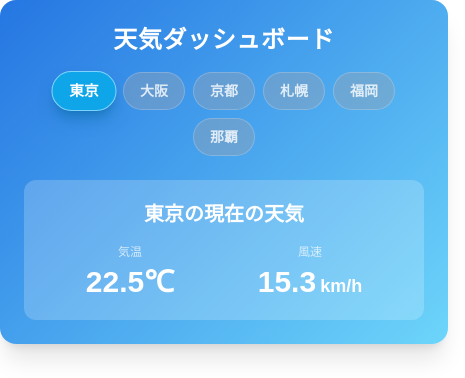
Scenario: CurrentWeather › 都市を変更すると新しい都市の天気が表示されること
This screenshot has width=465, height=378.
Expected: the heading "東京の現在の天気" is shown, 144,203 -> 304,225
Step 1. Click the button "大阪" → point(154, 91), box 123,72 -> 185,110
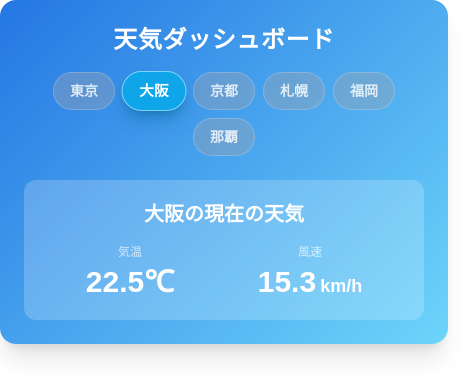
Expected: the heading "大阪の現在の天気" is shown, 144,203 -> 304,225
